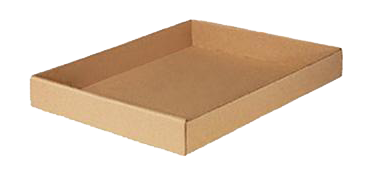Rec_Paper: (18, 14, 354, 156)
